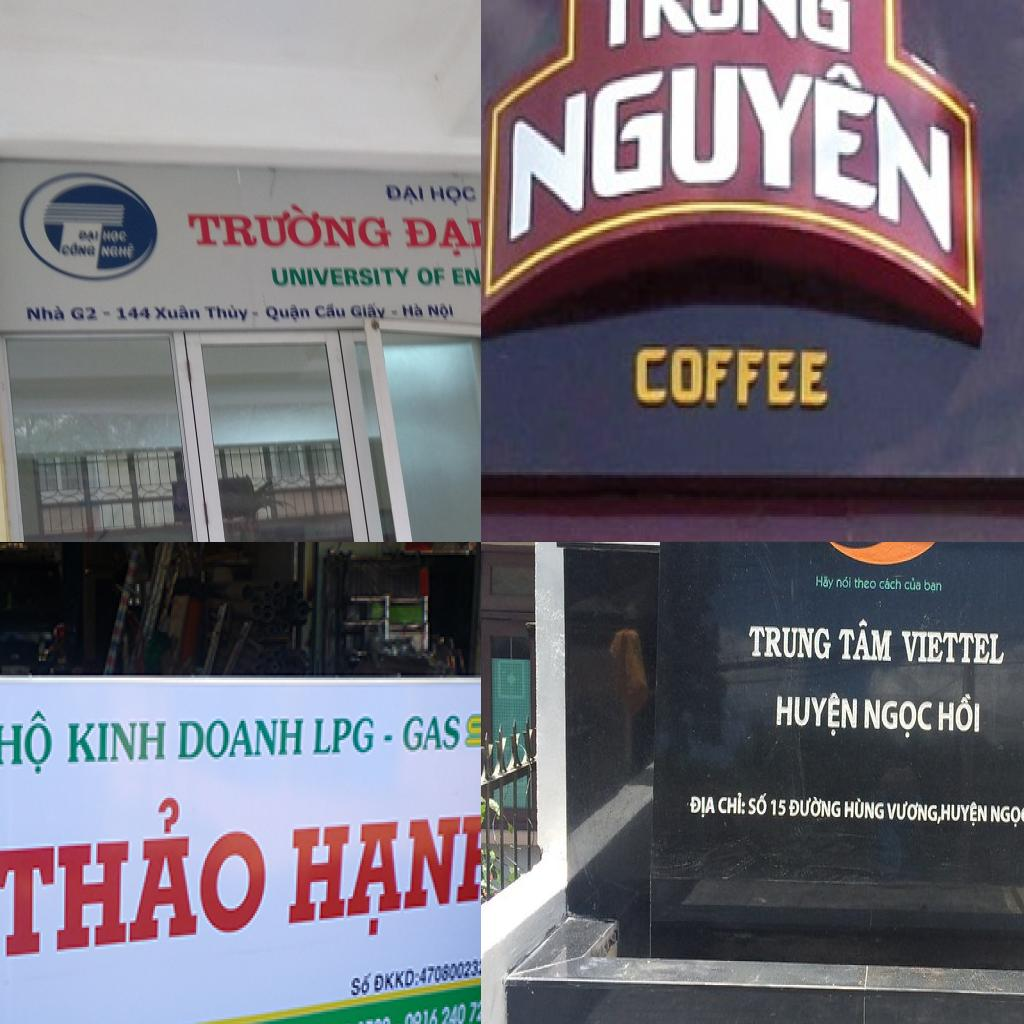text: (508, 54, 956, 260), (0, 788, 272, 966), (285, 809, 481, 949), (589, 0, 853, 60), (185, 196, 394, 253), (178, 716, 307, 764), (899, 622, 1007, 669), (66, 718, 169, 766), (773, 689, 859, 741), (0, 704, 57, 781), (747, 618, 834, 666), (268, 263, 412, 291), (862, 693, 935, 746), (402, 214, 481, 260), (835, 618, 895, 668), (312, 714, 378, 759), (401, 711, 464, 757), (401, 997, 481, 1024), (936, 692, 981, 737), (372, 964, 420, 997), (789, 794, 842, 821), (886, 800, 942, 825), (428, 182, 480, 208), (941, 800, 989, 828), (400, 300, 460, 320), (382, 178, 426, 205), (281, 1014, 394, 1024), (843, 797, 885, 822), (989, 801, 1024, 829), (264, 303, 312, 323), (717, 789, 747, 820), (24, 302, 66, 324), (348, 966, 374, 1000), (153, 304, 201, 322), (447, 263, 481, 287), (205, 304, 249, 322), (688, 794, 717, 820), (346, 302, 387, 319), (114, 304, 152, 322), (463, 711, 481, 749), (418, 265, 447, 288), (313, 302, 348, 320), (747, 790, 769, 818), (59, 240, 100, 255), (100, 244, 138, 260), (69, 304, 99, 322), (814, 569, 835, 592), (854, 574, 877, 594), (100, 228, 130, 243), (879, 576, 904, 594), (770, 796, 788, 820), (76, 226, 103, 241), (923, 576, 944, 594), (835, 574, 853, 592), (904, 576, 922, 594)
